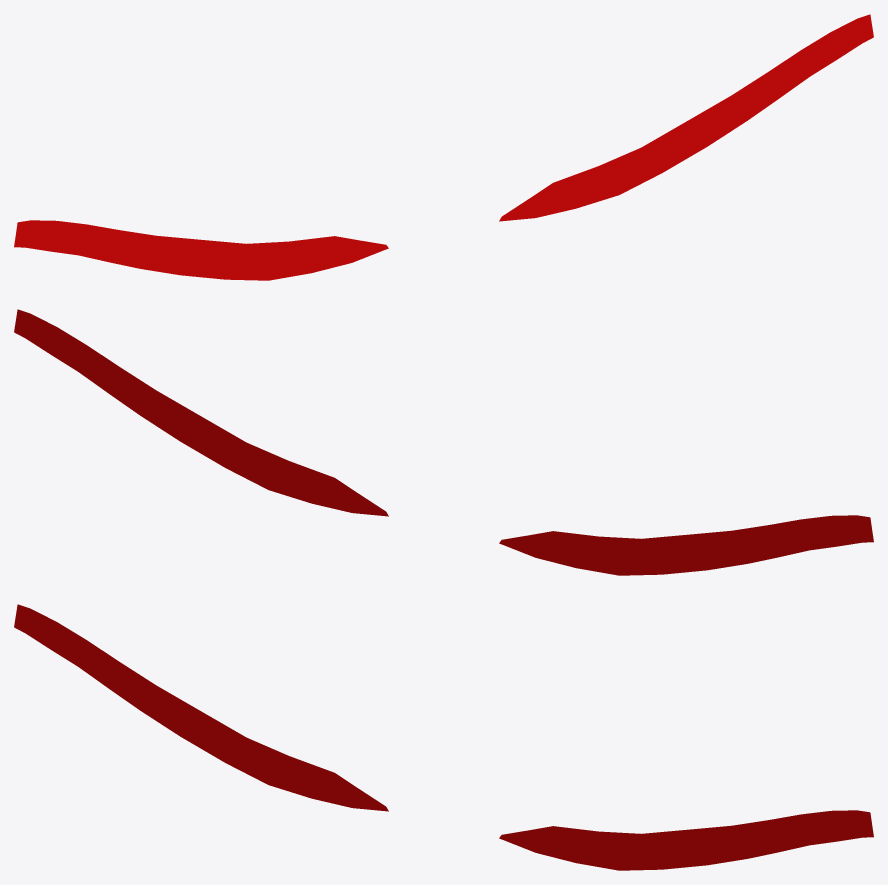
Rendered from frame111.fbx.
The picture shows the model from 3 angles, top to bottom: view 1: azimuth 30°, elevation 25°; view 2: azimuth 150°, elevation 25°; view 3: azimuth 330°, elevation 25°; orthographic projection.
Visible parts, largest first — view 1: MaterialLayer; view 2: MaterialLayer; view 3: MaterialLayer.
Boxes of the visible parts, left/top/right/bottom form: MaterialLayer: left=14, top=14, right=873, bottom=280; MaterialLayer: left=14, top=309, right=873, bottom=575; MaterialLayer: left=14, top=604, right=873, bottom=870.
Size of the model in its own units: 1385 by 189 by 1.81e-08.
